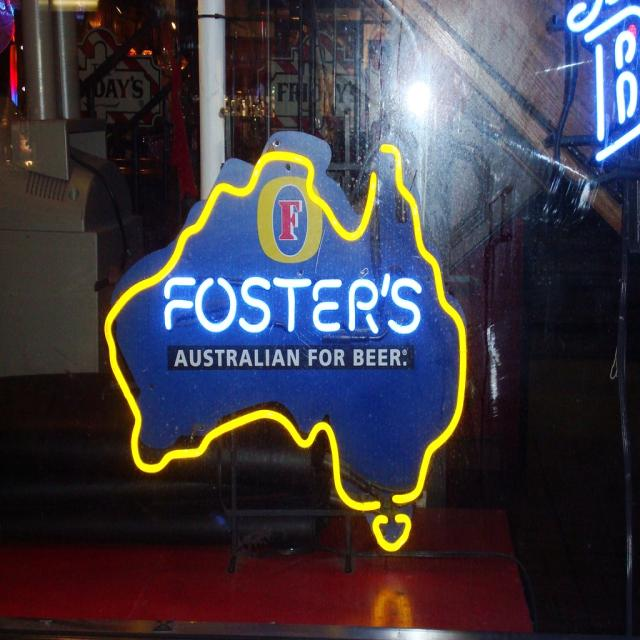fosters: (255, 174, 324, 266)
